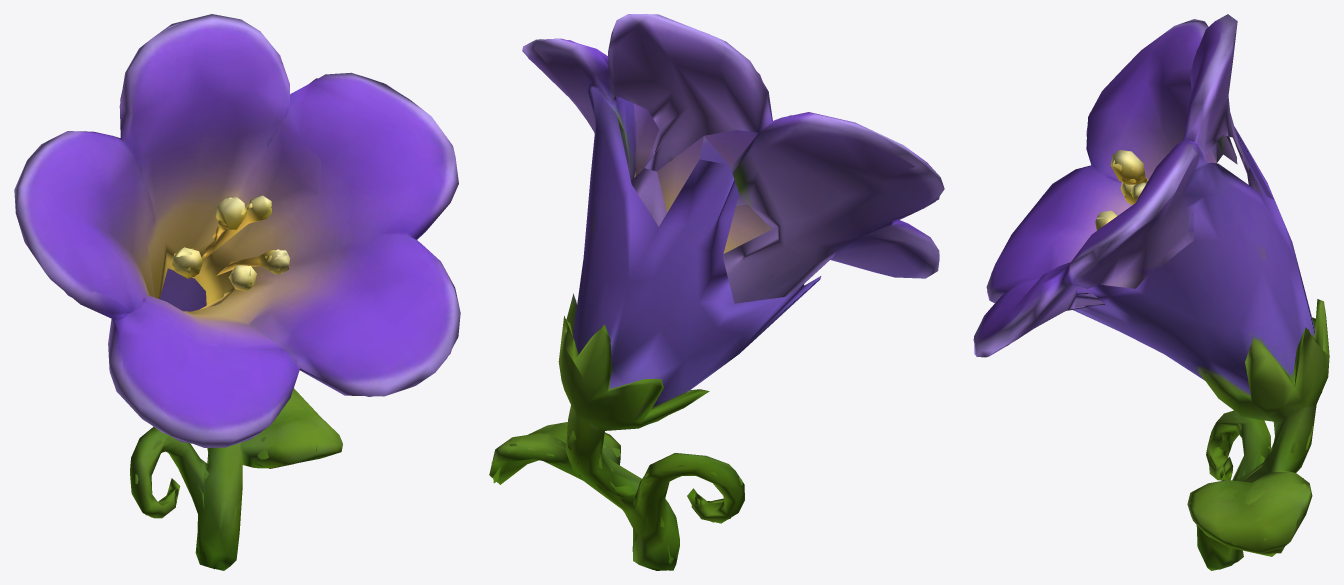
The model's file is bean_flower.glb.
The picture shows the model from 3 angles, left to right: view 1: azimuth 30°, elevation 25°; view 2: azimuth 150°, elevation 25°; view 3: azimuth 270°, elevation 25°; orthographic projection. The views are drawn at different scales.
Visible parts, largest first — view 1: bean_flower; view 2: bean_flower; view 3: bean_flower.
Boxes of the visible parts, bbox=[...] form: bean_flower: bbox=[14, 14, 460, 570]; bean_flower: bbox=[489, 14, 944, 570]; bean_flower: bbox=[973, 14, 1329, 570].
Size of the model in its own units: 1.18 by 1.5 by 0.9121.
1 material, 1 textured.
